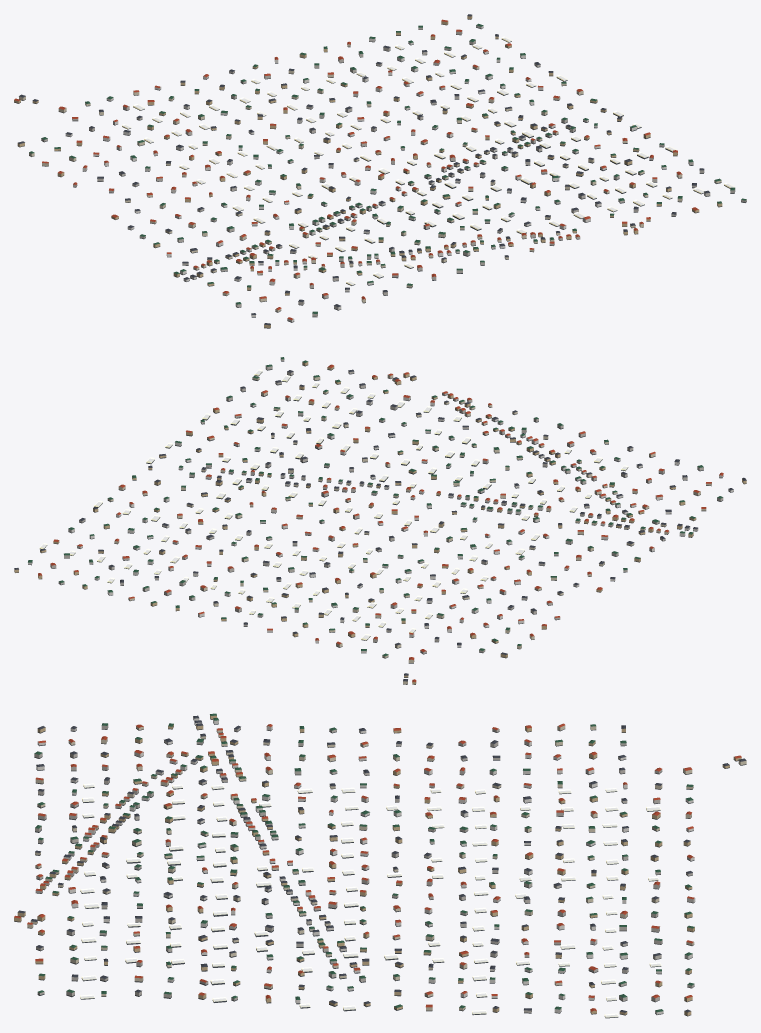
File: buildings_T_E01_N00.glb
3 views of the same model, one above another, from view 1: azimuth 30°, elevation 25°; view 2: azimuth 150°, elevation 25°; view 3: azimuth 270°, elevation 25° (orthographic). The views are drawn at different scales.
Visible parts, largest first — view 1: T_E01_N00_slope_seating_foundations, T_E01_N00_roofs_agri_greenhouse_arch, T_E01_N00_walls_wall_french_ochre_villa, T_E01_N00_roofs_roof_pine_green_hip, T_E01_N00_roofs_roof_terracotta_gable, T_E01_N00_walls_wall_pastel_sand_gray, T_E01_N00_walls_wall_modern_warm_white, T_E01_N00_roofs_roof_slate_French_villa_hip, T_E01_N00_walls_wall_dalat_cream_stucco; view 2: T_E01_N00_slope_seating_foundations, T_E01_N00_roofs_agri_greenhouse_arch, T_E01_N00_walls_wall_french_ochre_villa, T_E01_N00_roofs_roof_pine_green_hip, T_E01_N00_walls_wall_pastel_sand_gray, T_E01_N00_roofs_roof_terracotta_gable, T_E01_N00_walls_wall_modern_warm_white, T_E01_N00_roofs_roof_slate_French_villa_hip, T_E01_N00_walls_wall_dalat_cream_stucco; view 3: T_E01_N00_slope_seating_foundations, T_E01_N00_roofs_agri_greenhouse_arch, T_E01_N00_walls_wall_french_ochre_villa, T_E01_N00_roofs_roof_pine_green_hip, T_E01_N00_roofs_roof_terracotta_gable, T_E01_N00_walls_wall_pastel_sand_gray, T_E01_N00_walls_wall_modern_warm_white, T_E01_N00_roofs_roof_slate_French_villa_hip, T_E01_N00_walls_wall_dalat_cream_stucco.
Boxes of the visible parts, box(x1,y1,x2,y2) form: T_E01_N00_slope_seating_foundations: box(14, 18, 746, 328); T_E01_N00_roofs_agri_greenhouse_arch: box(122, 36, 734, 285); T_E01_N00_walls_wall_french_ochre_villa: box(14, 15, 722, 327); T_E01_N00_roofs_roof_pine_green_hip: box(29, 23, 746, 313); T_E01_N00_roofs_roof_terracotta_gable: box(14, 19, 698, 320); T_E01_N00_walls_wall_pastel_sand_gray: box(41, 27, 746, 316); T_E01_N00_walls_wall_modern_warm_white: box(65, 25, 666, 321); T_E01_N00_roofs_roof_slate_French_villa_hip: box(18, 14, 709, 325); T_E01_N00_walls_wall_dalat_cream_stucco: box(19, 44, 721, 311); T_E01_N00_slope_seating_foundations: box(15, 361, 746, 684); T_E01_N00_roofs_agri_greenhouse_arch: box(39, 369, 628, 640); T_E01_N00_walls_wall_french_ochre_villa: box(14, 362, 746, 684); T_E01_N00_roofs_roof_pine_green_hip: box(28, 357, 722, 656); T_E01_N00_walls_wall_pastel_sand_gray: box(50, 358, 723, 653); T_E01_N00_roofs_roof_terracotta_gable: box(38, 364, 723, 682); T_E01_N00_walls_wall_modern_warm_white: box(28, 396, 733, 652); T_E01_N00_roofs_roof_slate_French_villa_hip: box(14, 369, 746, 681); T_E01_N00_walls_wall_dalat_cream_stucco: box(107, 375, 711, 684); T_E01_N00_slope_seating_foundations: box(14, 718, 746, 1018); T_E01_N00_roofs_agri_greenhouse_arch: box(80, 783, 661, 1017); T_E01_N00_walls_wall_french_ochre_villa: box(14, 715, 741, 1015); T_E01_N00_roofs_roof_pine_green_hip: box(34, 713, 694, 1012); T_E01_N00_roofs_roof_terracotta_gable: box(14, 723, 741, 1011); T_E01_N00_walls_wall_pastel_sand_gray: box(34, 724, 694, 1012); T_E01_N00_walls_wall_modern_warm_white: box(36, 717, 695, 1014); T_E01_N00_roofs_roof_slate_French_villa_hip: box(18, 715, 746, 1012); T_E01_N00_walls_wall_dalat_cream_stucco: box(27, 725, 746, 1010).
Size of the model in its own units: 1823 by 92.06 by 1943.
